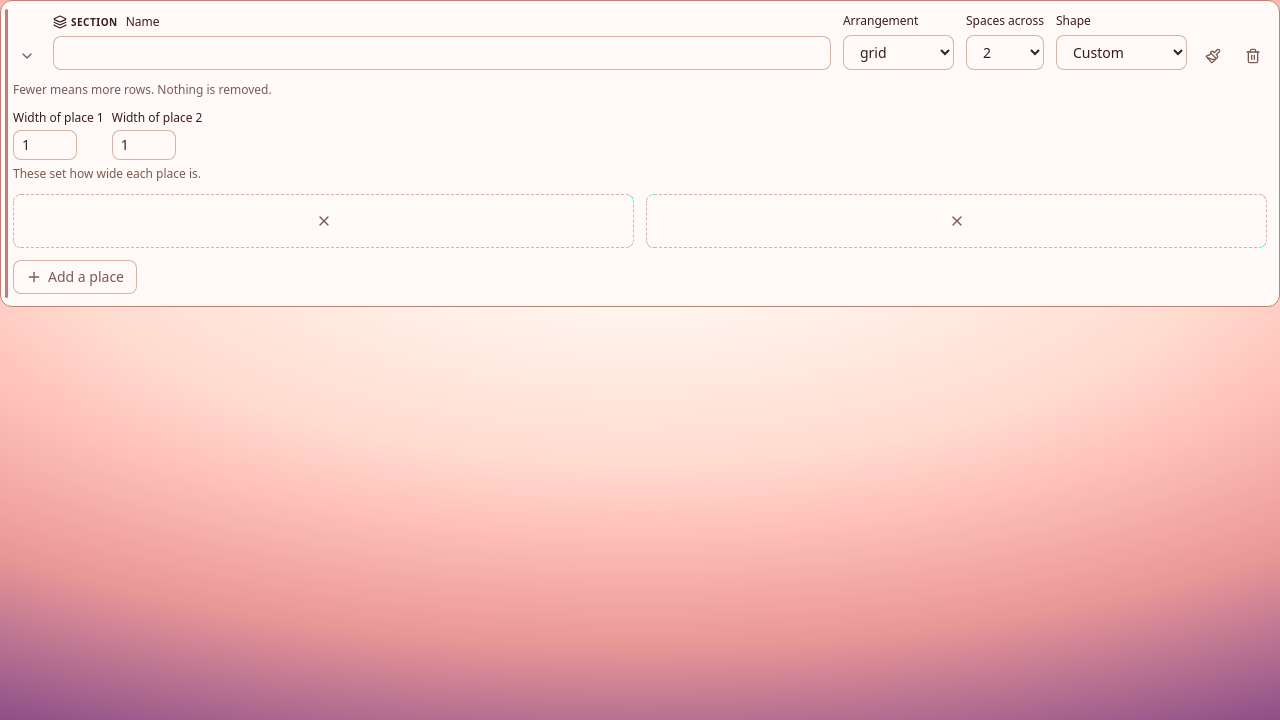
Test: BlockCard › the section's own fields › collapses the places and keeps the header
Click the button with test id "collapse-section": (27, 56) [13,42,41,70]
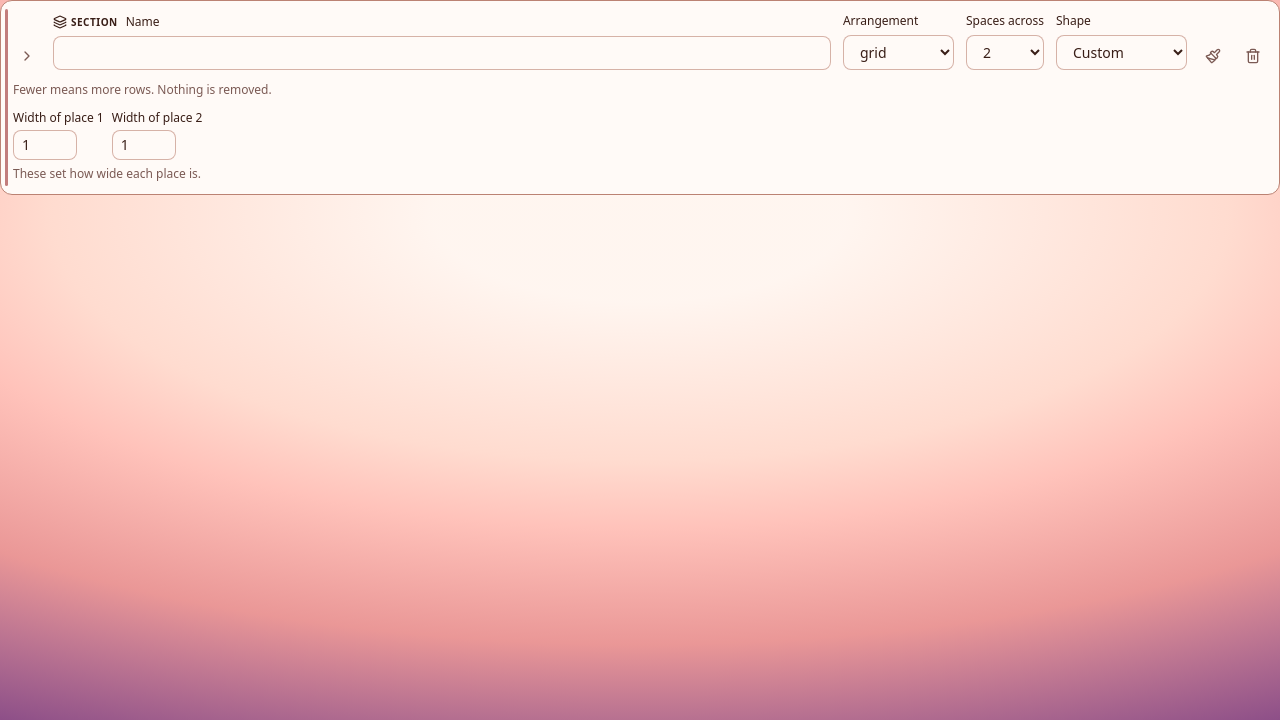
expect the field with test id "section-name" is shown: met, box [53,36,831,70]
expect the element with test id "places" is gone: met
